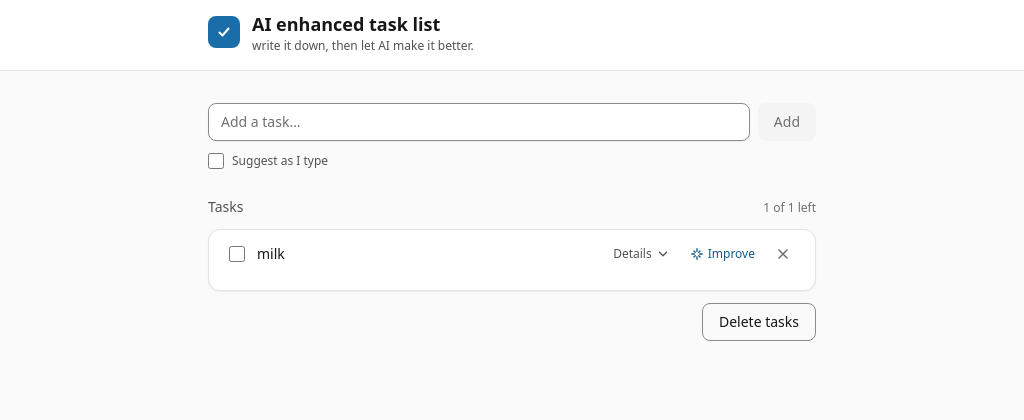
Test: App AI suggestions › shows the error state on a network failure
Click the button named "Improve \"milk\" with AI": (722, 254) [682,238,763,270]
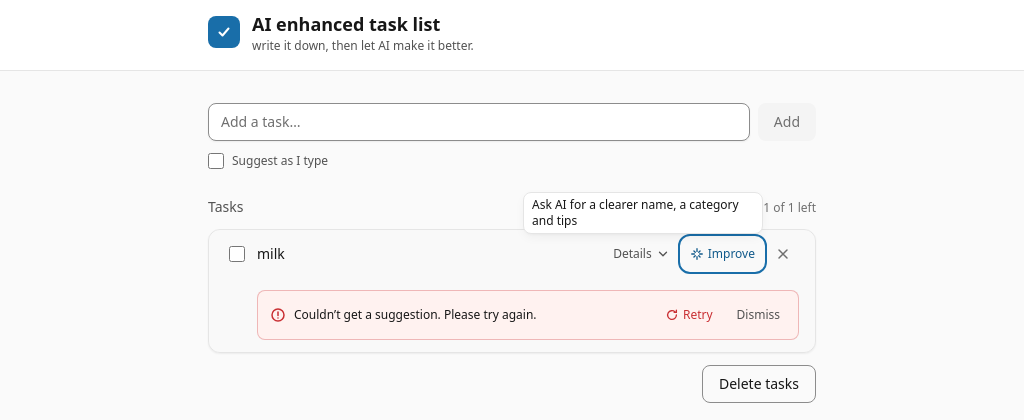
Result: the message "Couldn’t get a suggestion. Please try again. Retry Dismiss" is shown at [257,290,799,340]
